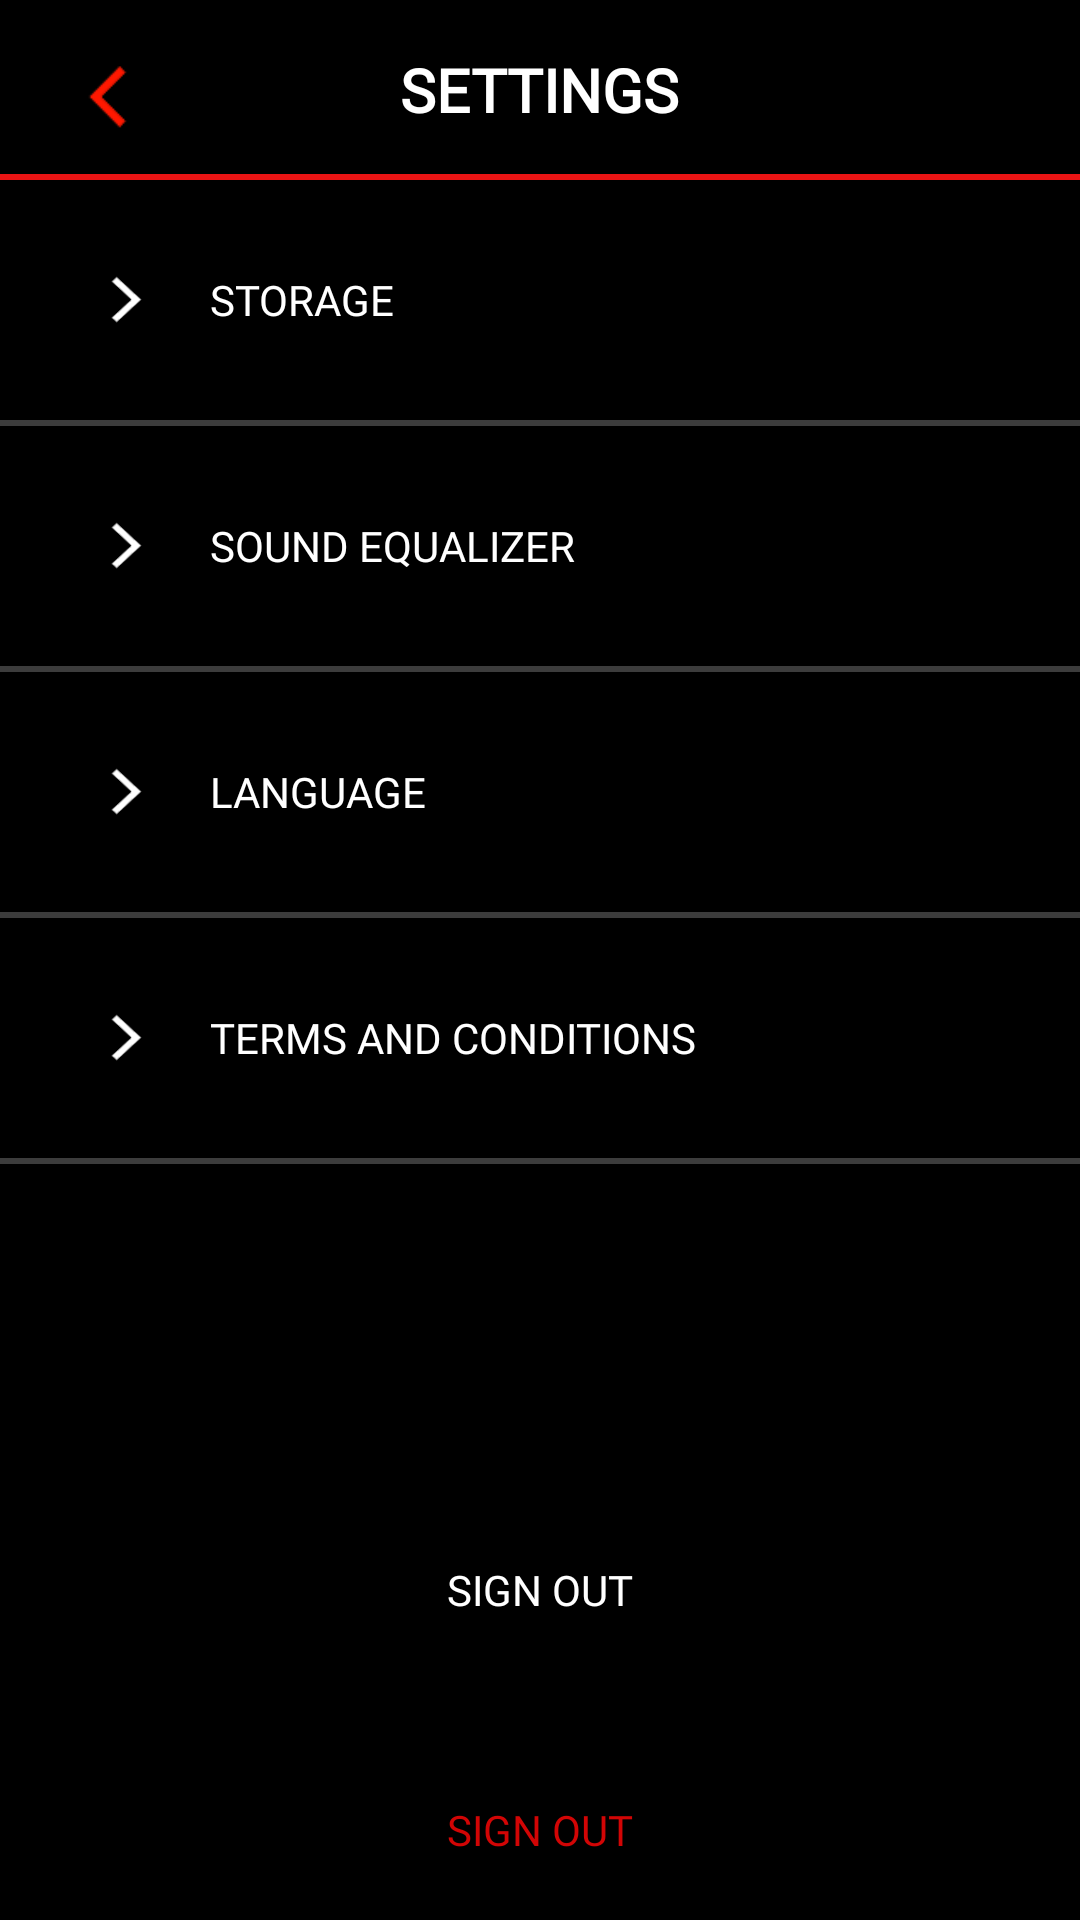

Where icons sit on this 1080 x 1920 app screen, as (x1, y1, x2, y2):
back: (89, 66, 126, 128)
